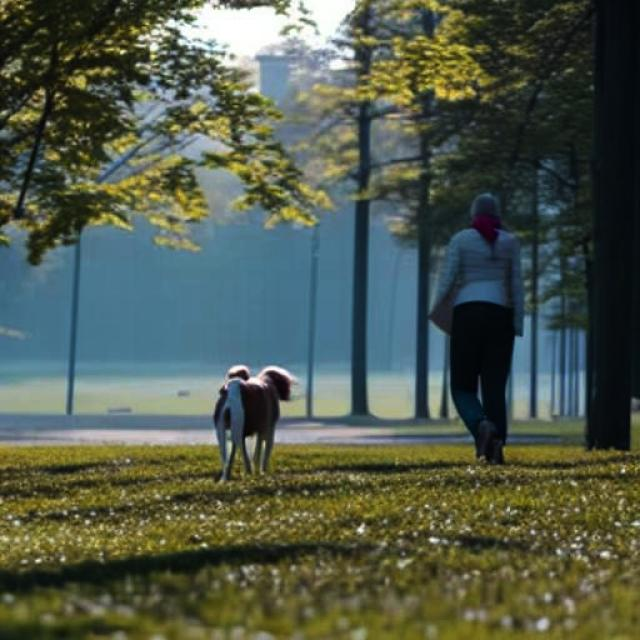Unleashed_Dog: (214, 319, 499, 477)
